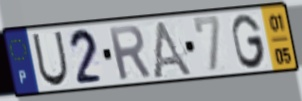2: (68, 25, 107, 89)
7: (190, 13, 226, 76)
A: (150, 18, 196, 78)
G: (230, 12, 268, 71)
R: (106, 23, 153, 83)
U: (30, 30, 70, 89)
